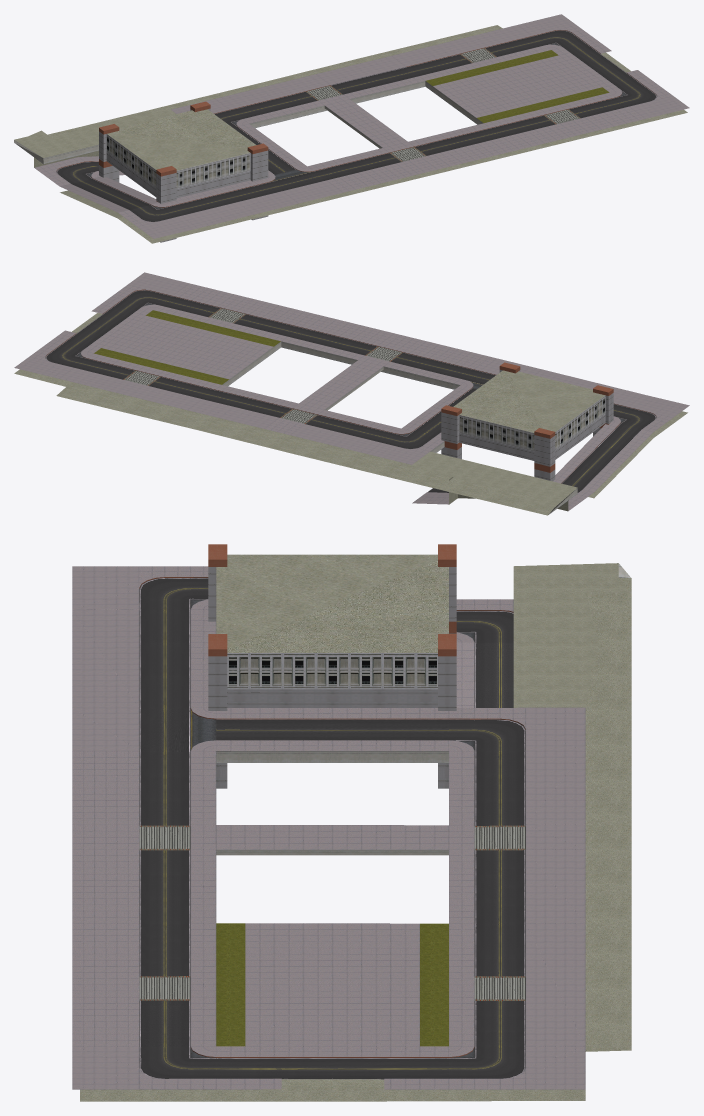
The model's file is lasairprt3.obj.
The picture shows the model from 3 angles, top to bottom: view 1: azimuth 30°, elevation 25°; view 2: azimuth 150°, elevation 25°; view 3: azimuth 270°, elevation 25°; orthographic projection. The views are drawn at different scales.
Parts seen in each view (by area): view 1: lasairprt3; view 2: lasairprt3; view 3: lasairprt3.
Boxes of the visible parts, x1,y1,x2,y2 form: lasairprt3: (14, 14, 689, 243); lasairprt3: (14, 272, 689, 515); lasairprt3: (72, 544, 631, 1101).
Bounding box in the file's own units: 243 × 30.04 × 109.
